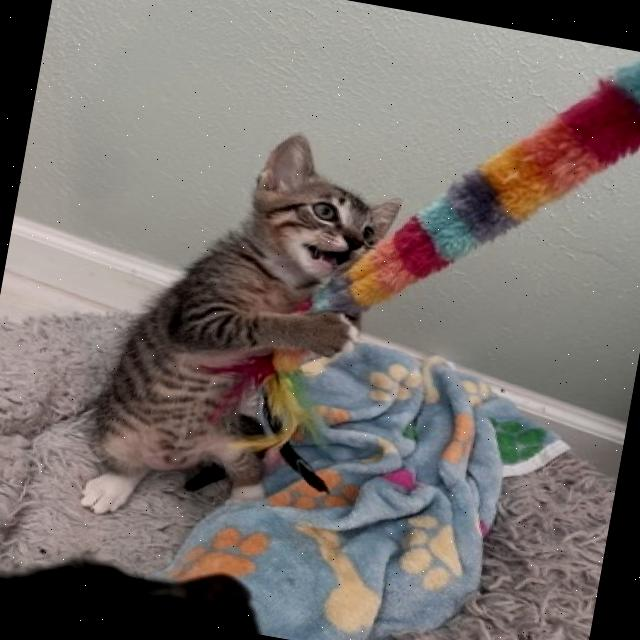domestic_short_hair_cat: (205, 120, 423, 314)
